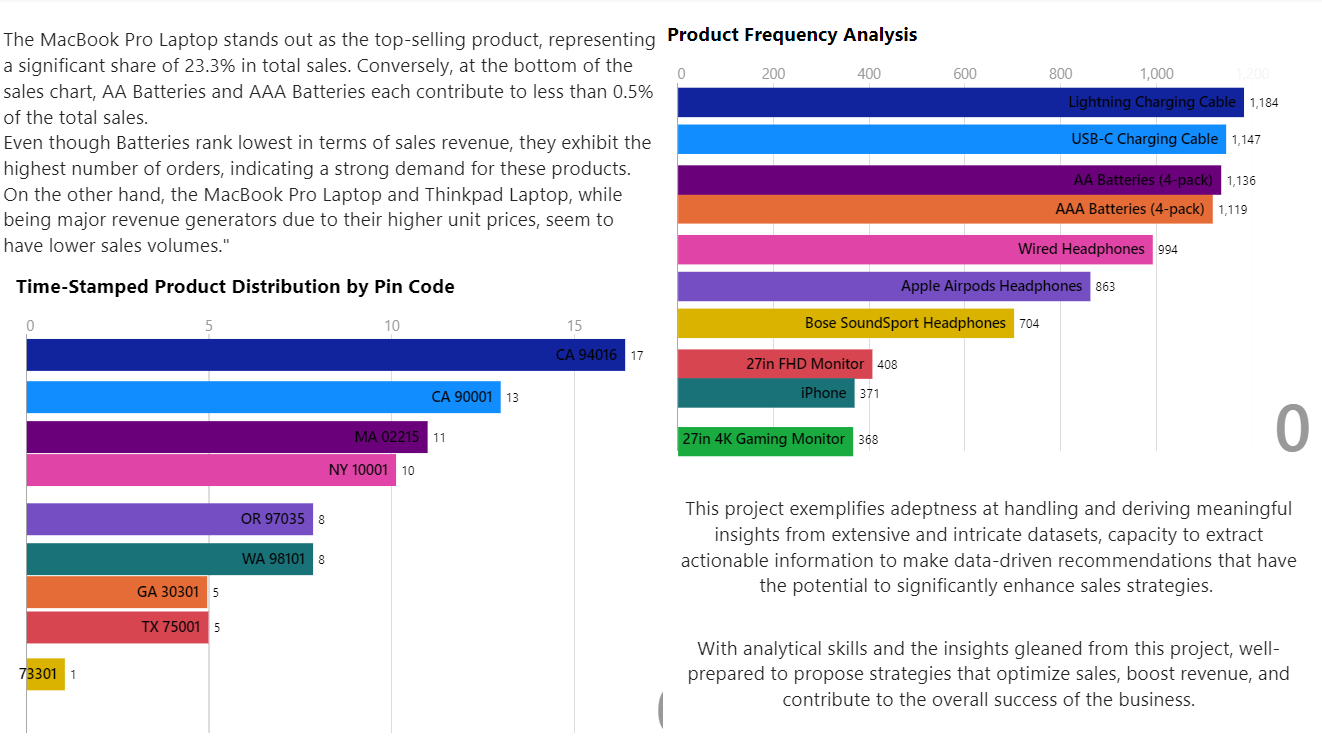

What the dashboard file says about the page in this screenshot:
{"tool":"powerbi","page":{"name":"Page 2","canvas":[1280,720],"ordinal":1},"visuals":[{"type":"wishyoulizationbarchartrace","title":"Product Frequency Analysis","fields":{"name":["Sales Data.Product"],"value":["CountNonNull(Sales Data.Product)"],"year":["Sales Data.Pin Code"]},"box":[640,22.5,640,425],"z":0},{"type":"wishyoulizationbarchartrace","title":"Time-Stamped Product Distribution by Pin Code","fields":{"name":["Sales Data.Pin Code"],"value":["CountNonNull(Sales Data.Product)"],"year":["Sales Data.Time"]},"box":[12.5,265,671.2,455],"z":1000},{"type":"textbox","box":[0,22.5,641.2,351.2],"z":2000},{"type":"textbox","box":[641.2,475,628.8,245],"z":2001}]}

Visuals, with their boxes in screenshot pixels (x1, y1, x2, y2), scaled from the page's 1280x720 canvas onto the 1322x740 screenshot:
"Product Frequency Analysis" wishyoulizationbarchartrace: bbox=(661, 23, 1321, 460)
"Time-Stamped Product Distribution by Pin Code" wishyoulizationbarchartrace: bbox=(13, 272, 706, 739)
textbox: bbox=(0, 23, 662, 384)
textbox: bbox=(662, 488, 1312, 739)
